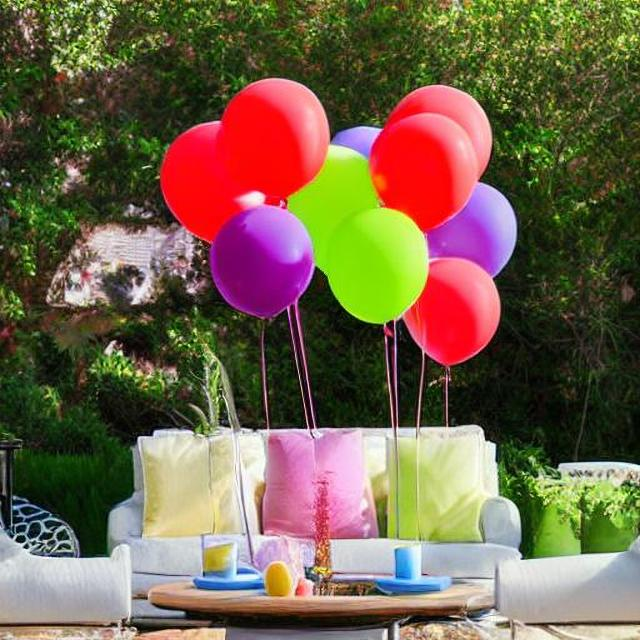balloon: (158, 90, 494, 345), (343, 156, 510, 365), (174, 99, 336, 308), (357, 91, 492, 272), (206, 78, 331, 230), (201, 197, 317, 320)
